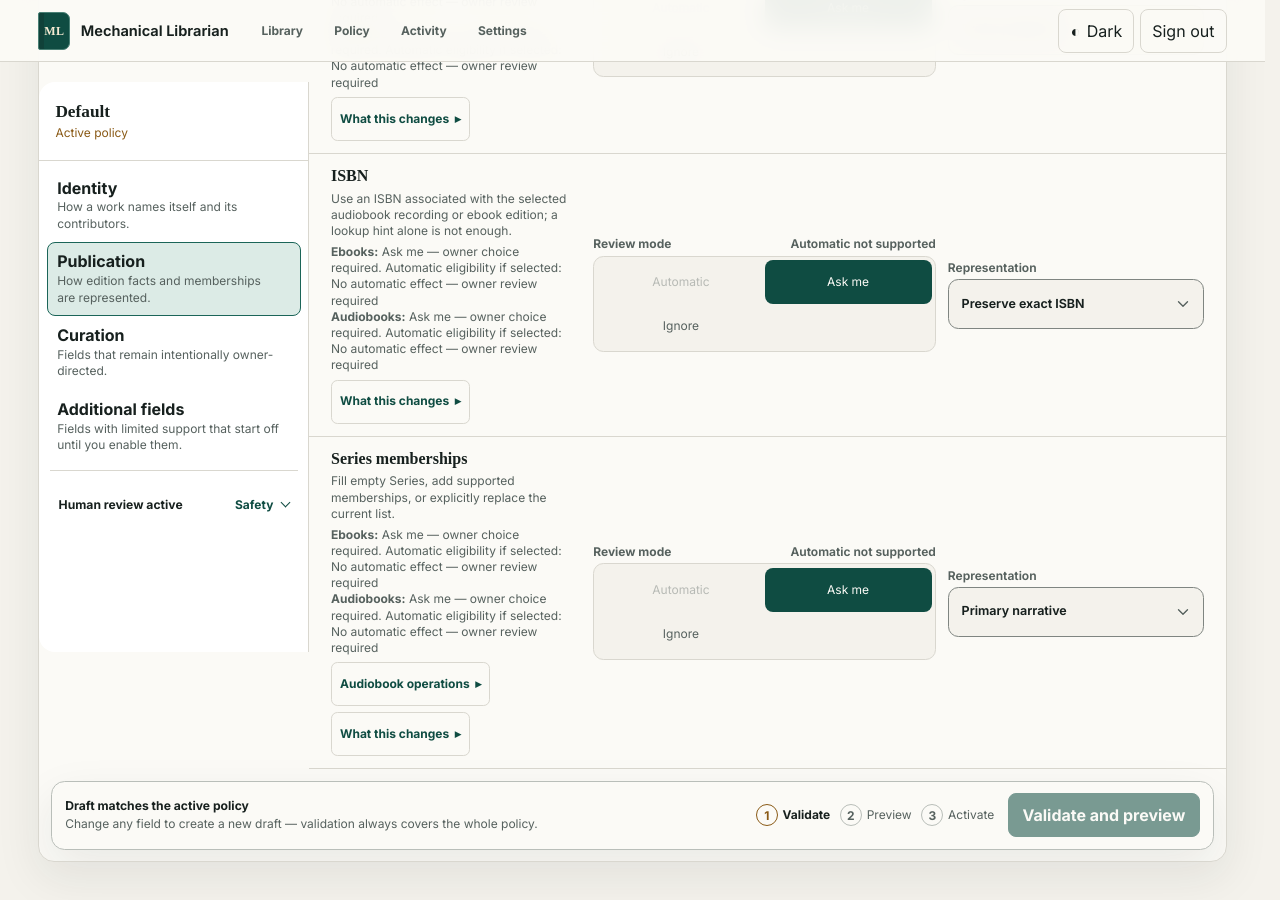
it: Policy route › explains empty-series filling, fill and explicit add/replace representations and provider numbering limits
(page scrolled)
Expected: the text "Fill empty Series, add supported memberships, or explicitly replace the current list." is shown, [331,473,547,521]
Click the heading "What this changes" below "Audiobook operations": (400, 734) [331,712,470,756]
(page scrolled)
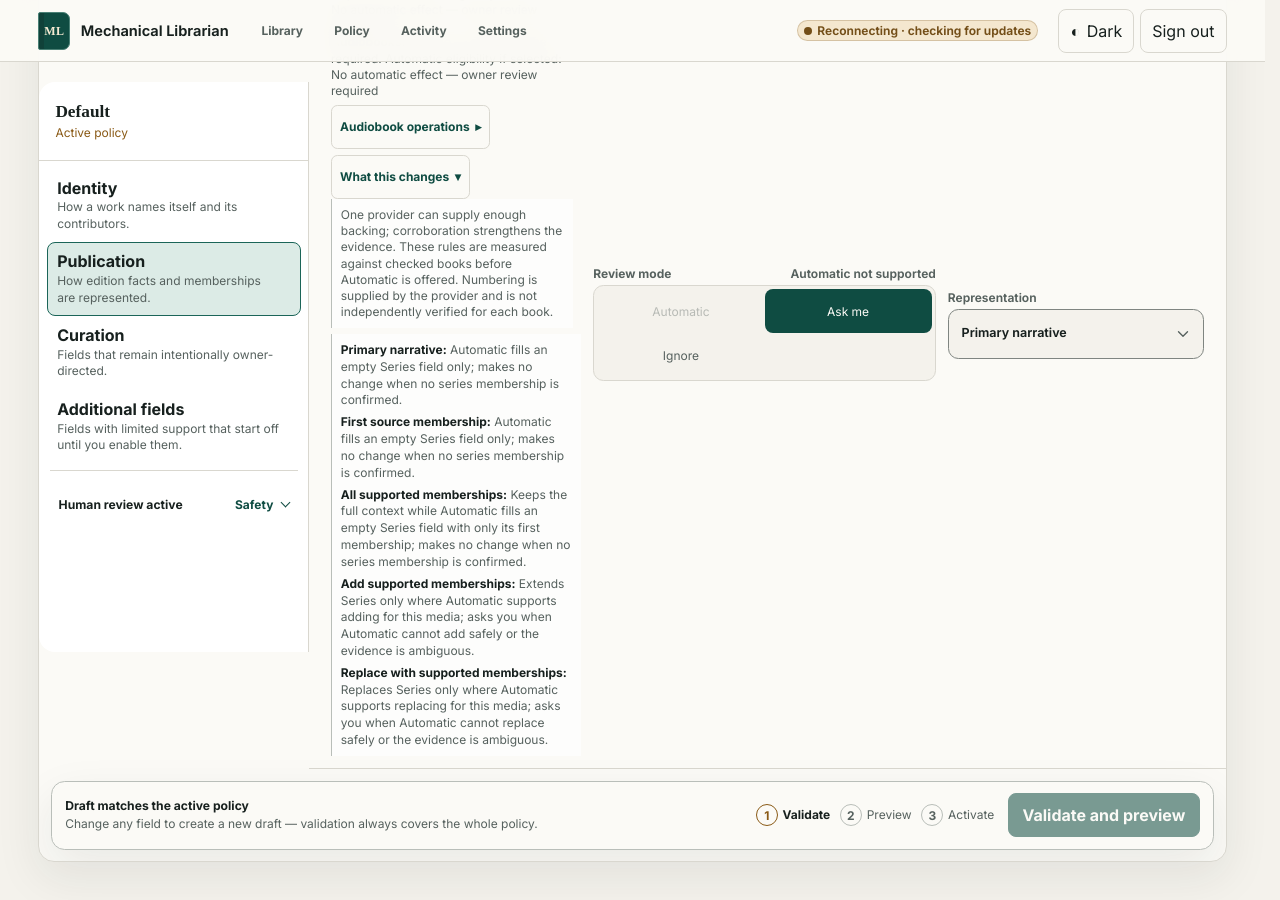
Result: the text "not independently verified for each book" is shown at [341,207,562,319]
Result: the text "Primary narrative:" is shown at [341,342,447,357]
Result: the text "First source membership:" is shown at [341,414,491,429]
